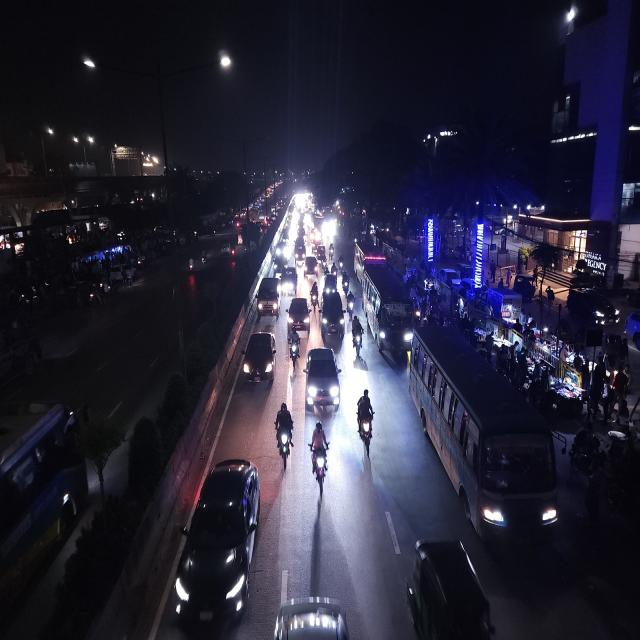bus: (410, 321, 560, 548), (1, 395, 88, 640), (362, 263, 417, 358), (353, 238, 383, 278)
car: (175, 452, 262, 637), (306, 344, 342, 416), (241, 326, 277, 392), (319, 288, 345, 340), (255, 274, 281, 321), (287, 293, 311, 336), (304, 254, 320, 282), (271, 251, 288, 276)
cng: (316, 245, 328, 266)
motorcycle: (308, 417, 331, 490), (273, 399, 295, 466), (355, 386, 376, 454), (287, 325, 301, 370), (351, 311, 364, 358), (345, 278, 353, 317), (310, 280, 320, 311), (347, 287, 357, 317), (342, 270, 350, 296), (200, 248, 209, 266), (187, 258, 197, 273), (338, 252, 345, 272), (329, 242, 334, 260)
pickup_van: (280, 268, 298, 294)
